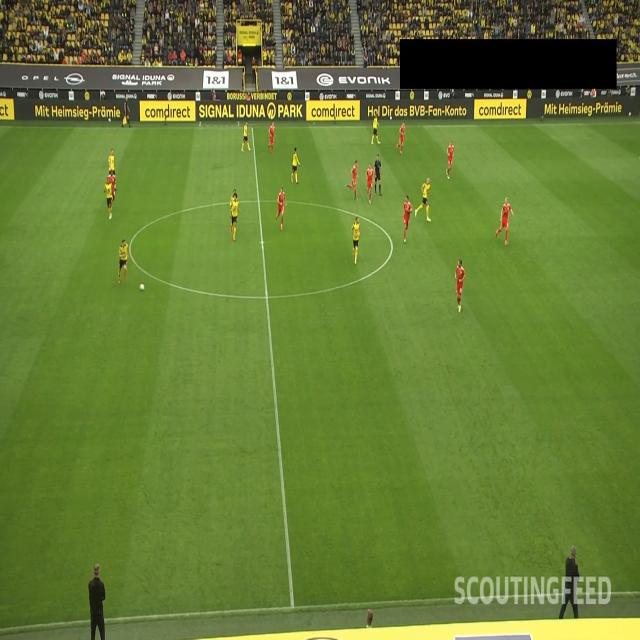ball: (138, 282, 146, 292)
